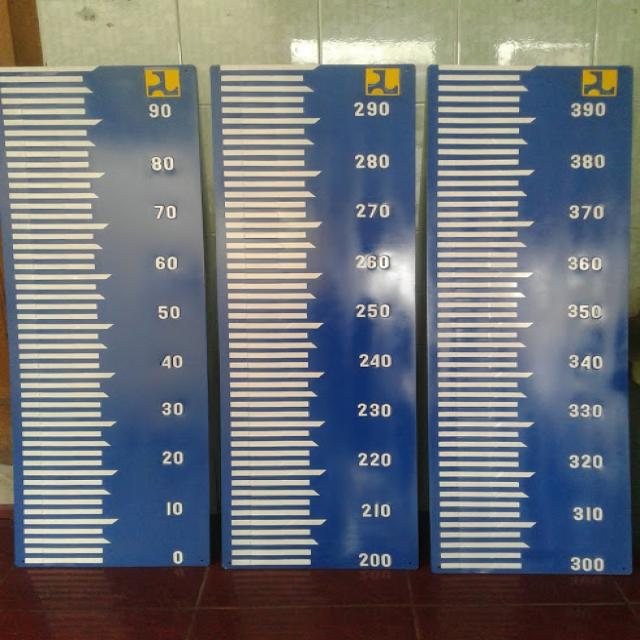10: (159, 497, 189, 520), (372, 502, 392, 519), (585, 505, 605, 522)
20: (160, 448, 189, 469), (358, 550, 381, 569), (581, 454, 607, 469), (370, 452, 395, 467)
30: (160, 399, 189, 417), (369, 402, 392, 418), (581, 402, 604, 418), (572, 556, 594, 572)
40: (159, 352, 187, 372), (580, 354, 606, 371), (370, 352, 393, 369)
50: (153, 302, 185, 325), (578, 303, 603, 321), (368, 302, 392, 319)
60: (152, 253, 182, 272), (366, 255, 390, 270), (580, 256, 604, 270)
70: (582, 201, 610, 222), (152, 203, 180, 221), (368, 202, 391, 218)
80: (148, 153, 174, 174), (581, 152, 606, 170), (366, 153, 392, 170)
90: (146, 102, 176, 122), (584, 101, 608, 118), (367, 102, 392, 116)
staff: (430, 69, 633, 577), (216, 66, 417, 572), (0, 71, 199, 570)
